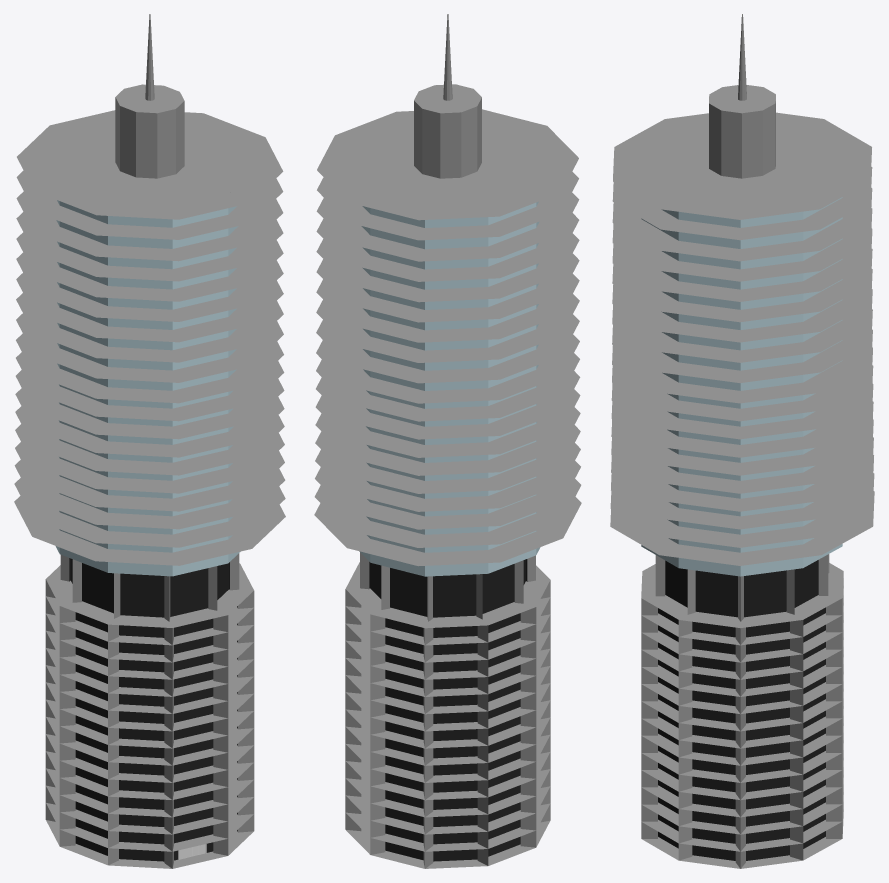
File: skyscraper_05.fbx
3 views of the same model, side by side, from view 1: azimuth 30°, elevation 25°; view 2: azimuth 150°, elevation 25°; view 3: azimuth 270°, elevation 25° (orthographic).
Parts seen in each view (by area): view 1: skyscraper05; view 2: skyscraper05; view 3: skyscraper05.
Part boxes in pixels (x1,y1,x2,y2): skyscraper05: [14, 14, 285, 868]; skyscraper05: [314, 14, 581, 868]; skyscraper05: [610, 14, 874, 868].
Size of the model in its own units: 3424 by 11385 by 3363.
